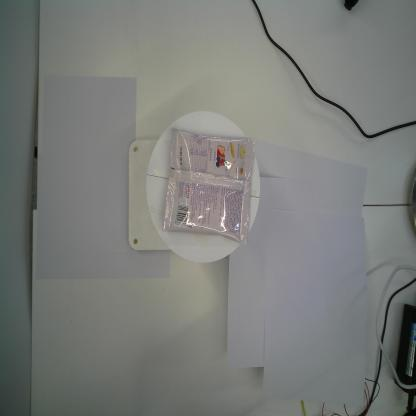Instant Drink: (162, 127, 256, 245)
